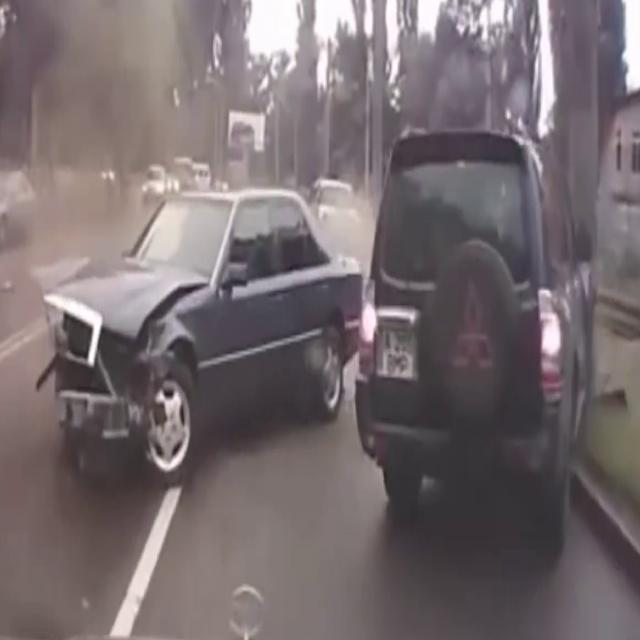accident: (31, 143, 369, 480)
